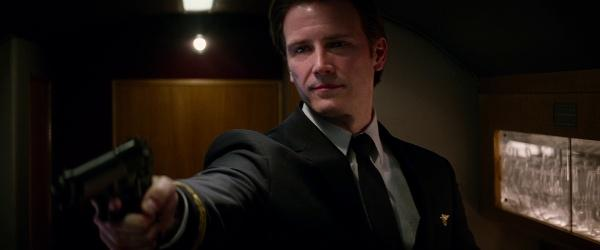Gun: (52, 140, 152, 228)
